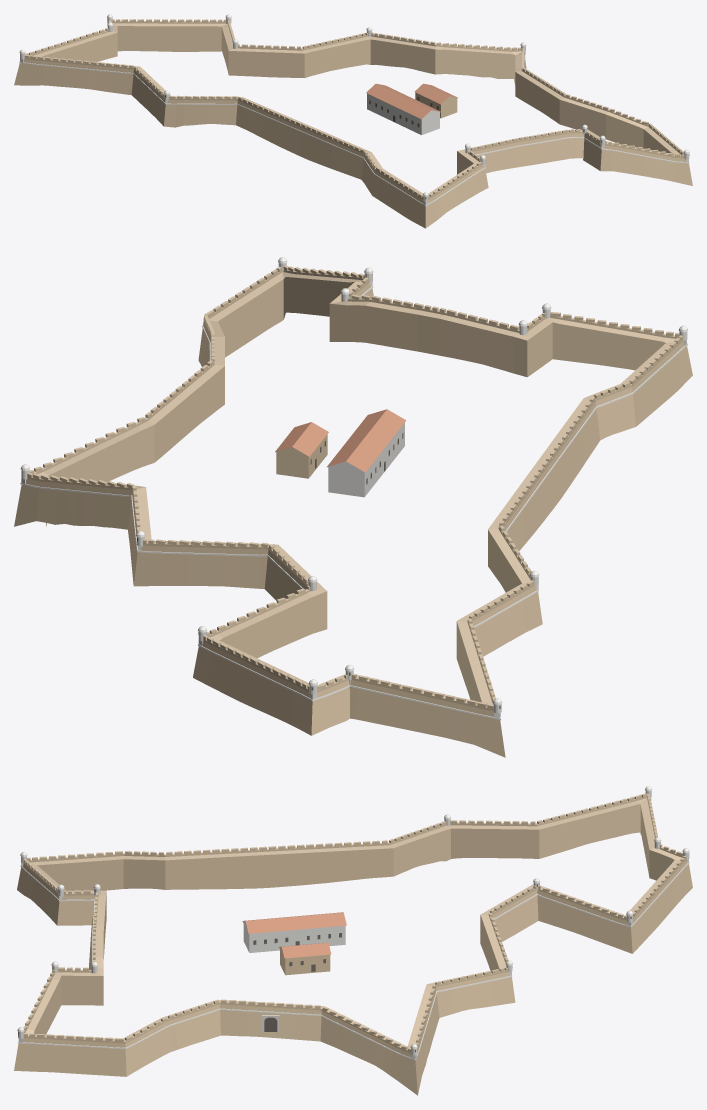
File: luanda.glb
The picture shows the model from 3 angles, top to bottom: view 1: azimuth 30°, elevation 25°; view 2: azimuth 150°, elevation 25°; view 3: azimuth 270°, elevation 25°; orthographic projection. The views are drawn at different scales.
Visible parts, largest first — view 1: luanda; view 2: luanda; view 3: luanda.
Boxes of the visible parts, x1,y1,x2,y2 form: luanda: (14, 14, 692, 228); luanda: (14, 257, 692, 757); luanda: (14, 786, 692, 1095).
Bounding box in the file's own units: 176 × 33.05 × 207.
